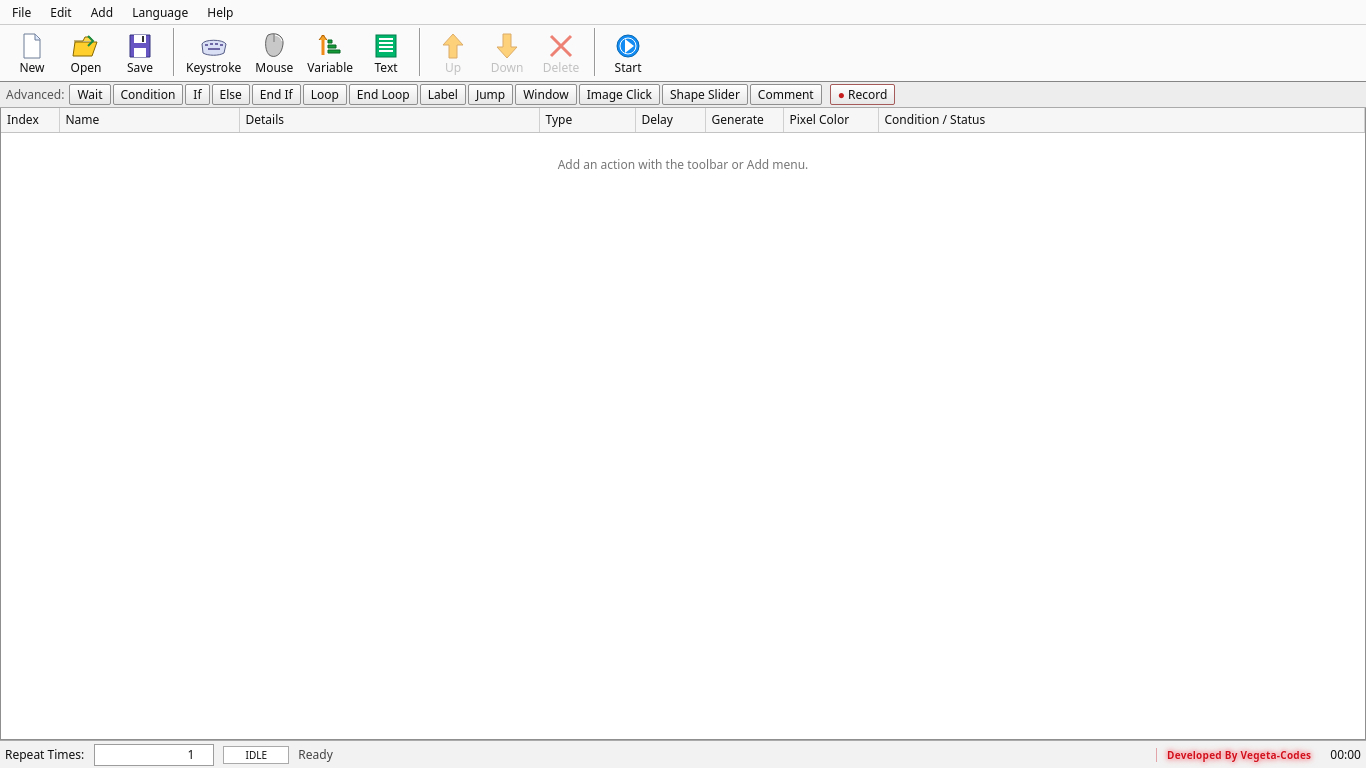
Test: App close protection › keeps an unsaved workflow open when Cancel is selected
The width and height of the screenshot is (1366, 768).
Press a
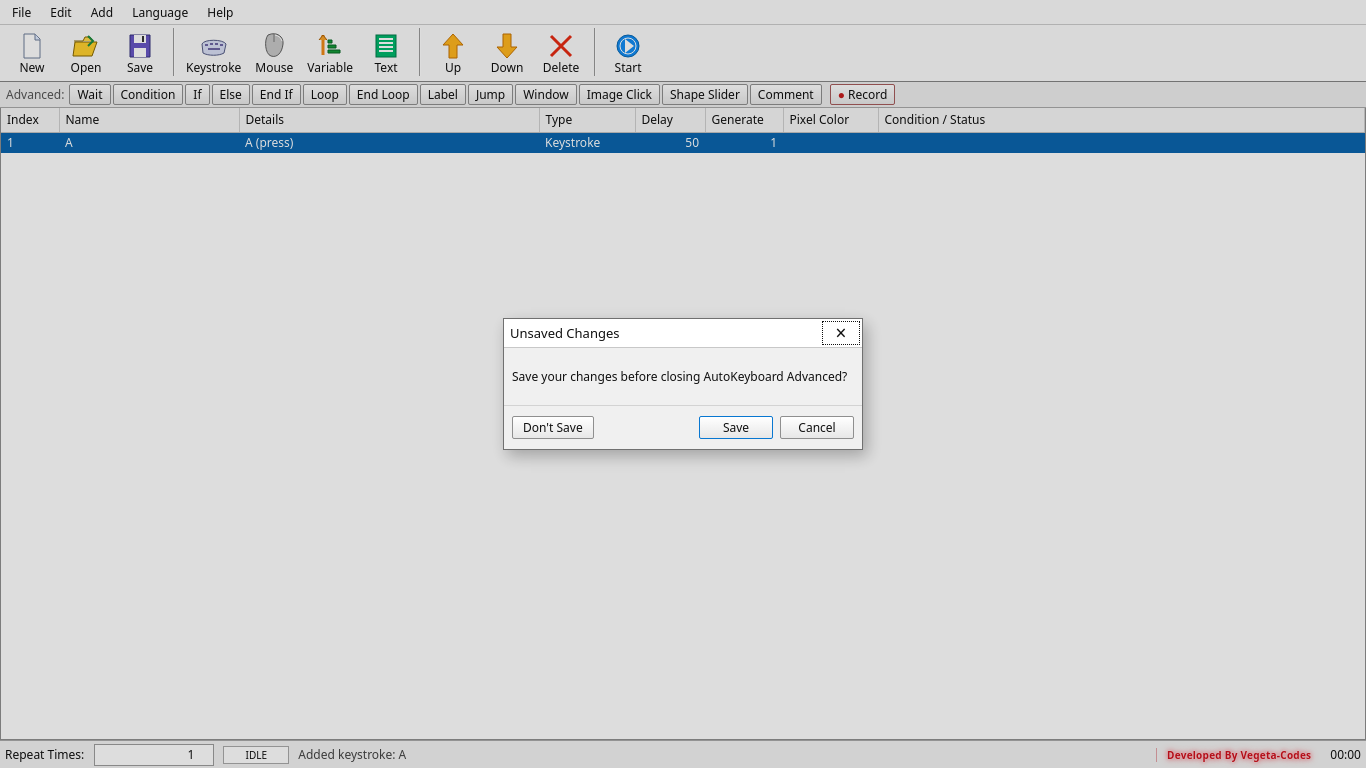
Click the button "Cancel".
click(817, 428)  # box [780,416,854,439]
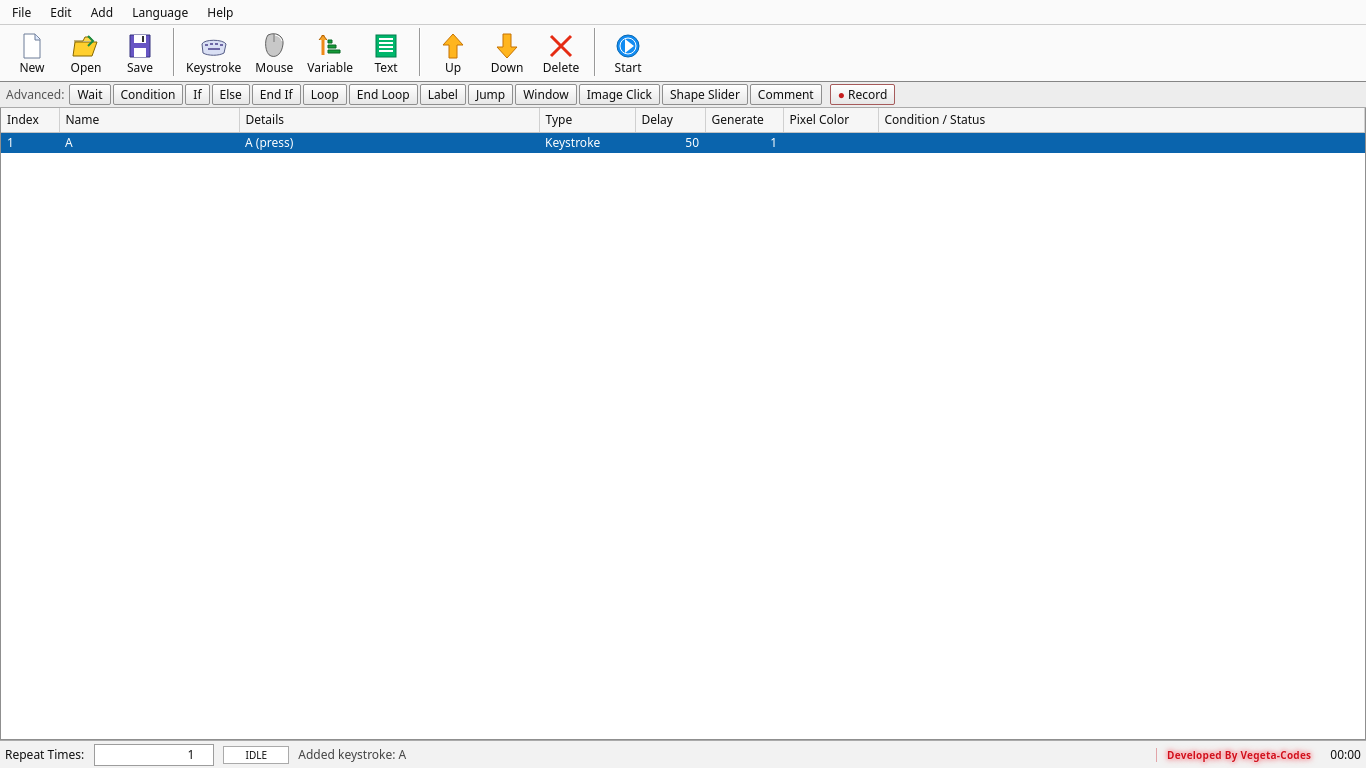
Expected: the text "Save your changes before closing AutoKeyboard Advanced?" is gone
